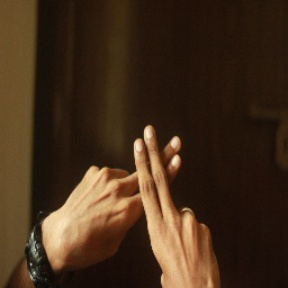F: (115, 119, 197, 248)
